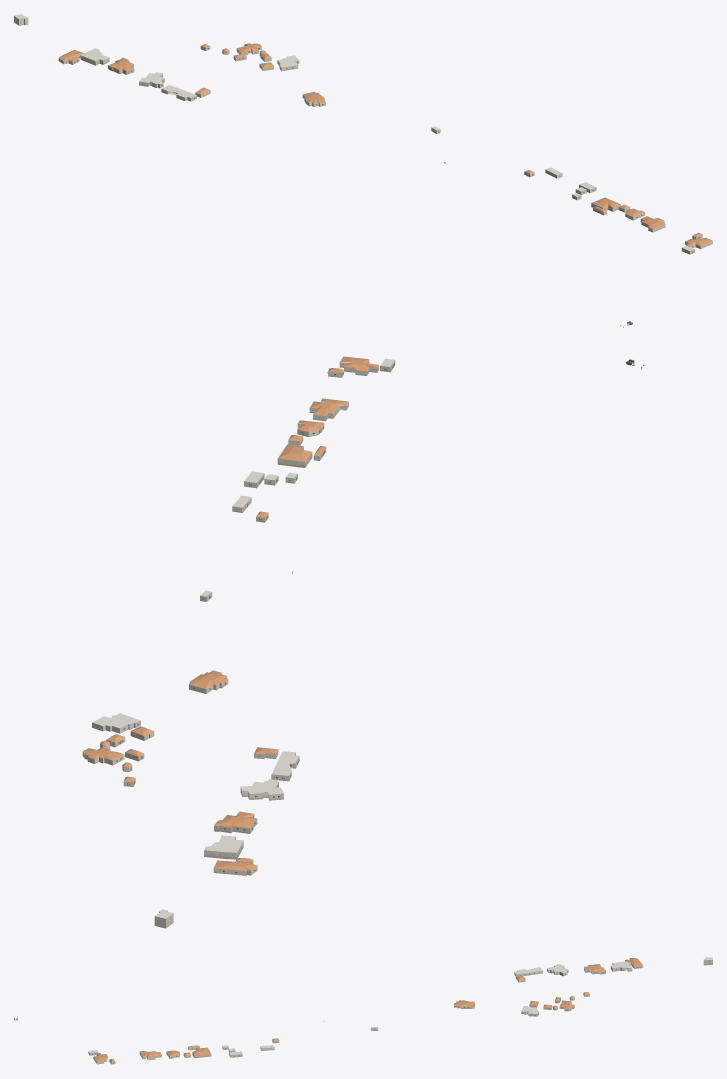
The model's file is nw_shore_houses.glb.
The picture shows the model from 3 angles, top to bottom: view 1: azimuth 30°, elevation 25°; view 2: azimuth 150°, elevation 25°; view 3: azimuth 270°, elevation 25°; orthographic projection. The views are drawn at different scales.
Parts seen in each view (by area): view 1: nw_shore_houses_lod0; view 2: nw_shore_houses_lod0; view 3: nw_shore_houses_lod0.
Boxes of the visible parts, left/top/right/bottom form: nw_shore_houses_lod0: left=14, top=14, right=712, bottom=327; nw_shore_houses_lod0: left=82, top=356, right=644, bottom=928; nw_shore_houses_lod0: left=14, top=957, right=712, bottom=1064.
Size of what is drawn, in the model's own units: 314 by 15.3 by 849.
